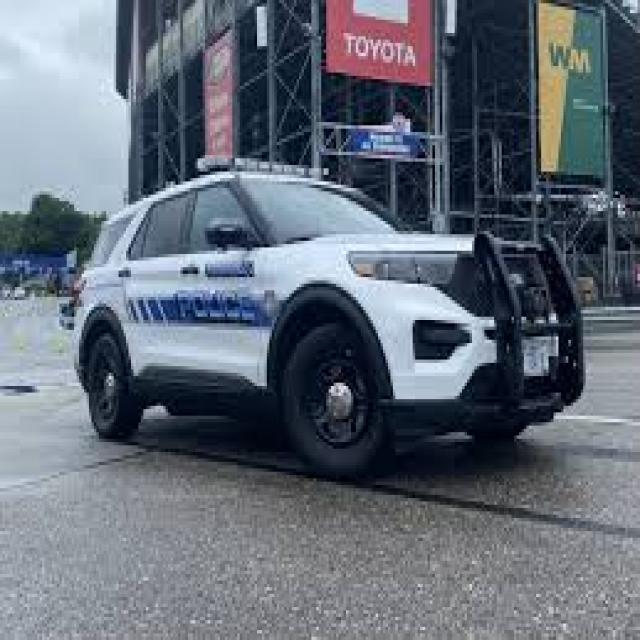cop: (67, 155, 591, 487)
